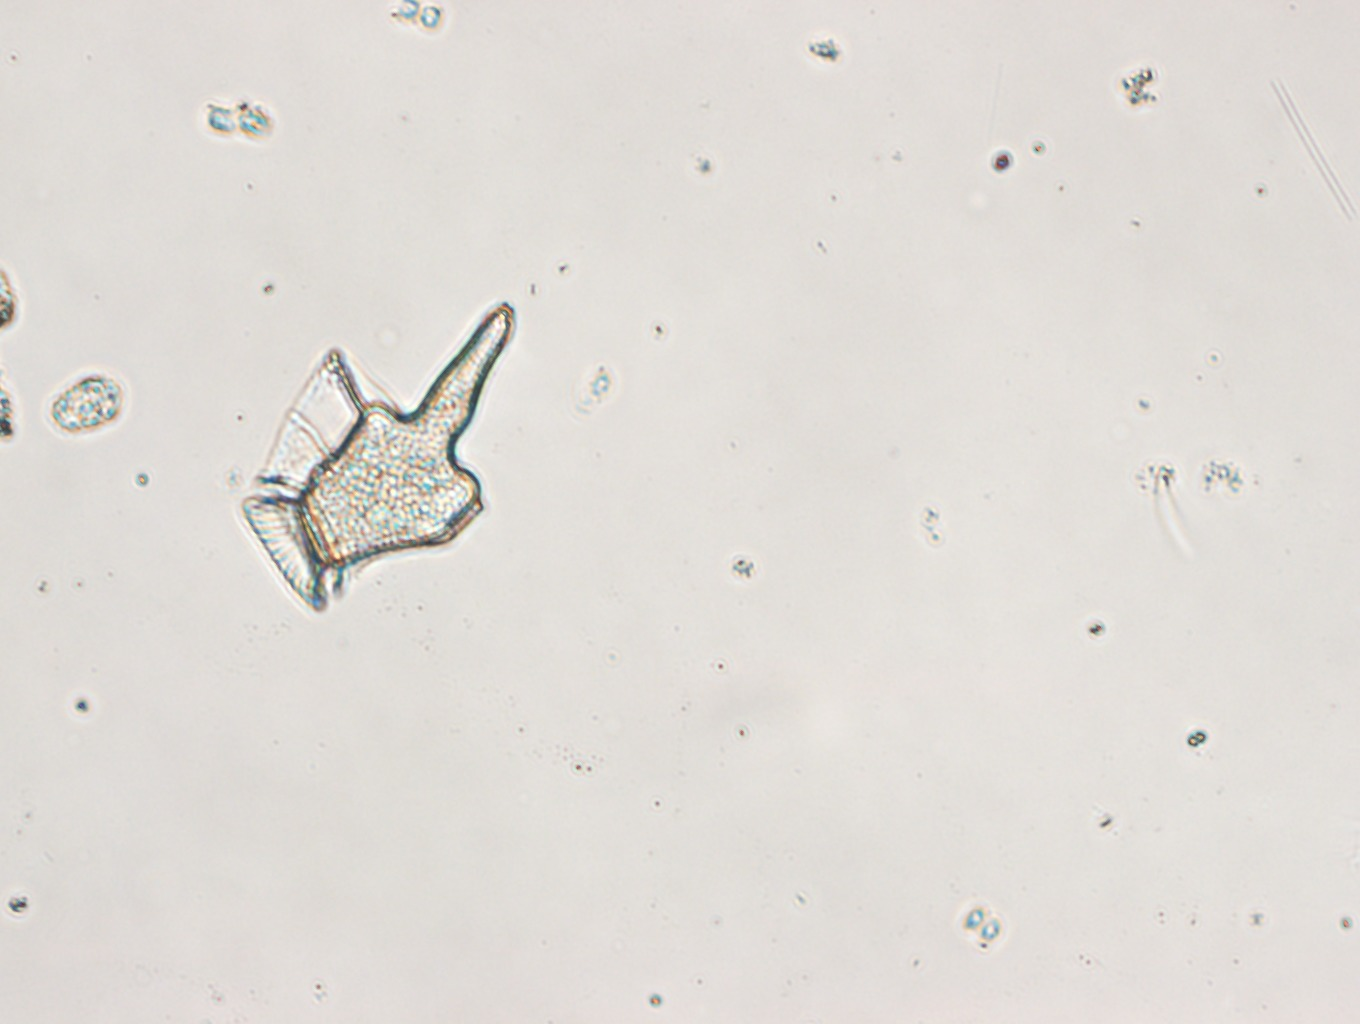dinophysis caudata: (228, 297, 520, 618)
